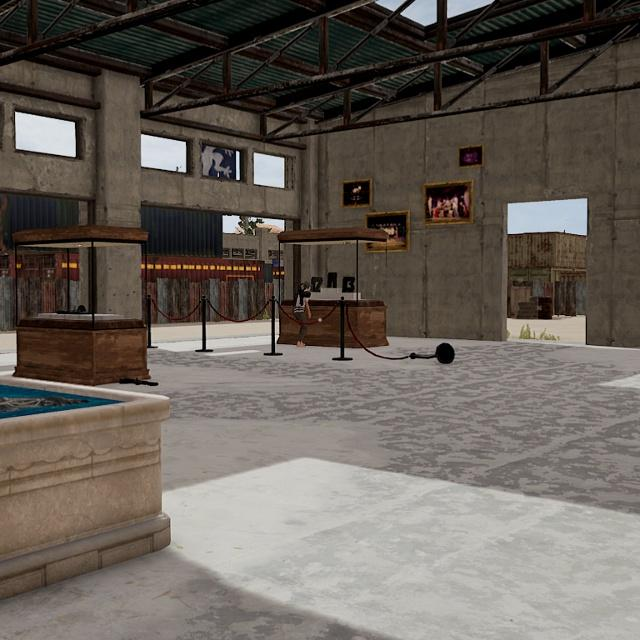head: (301, 279, 312, 290)
people: (293, 278, 315, 349)
